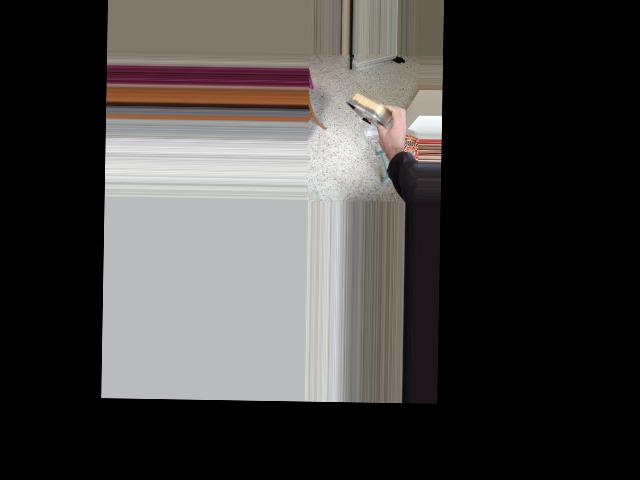cheese: (343, 82, 415, 140)
